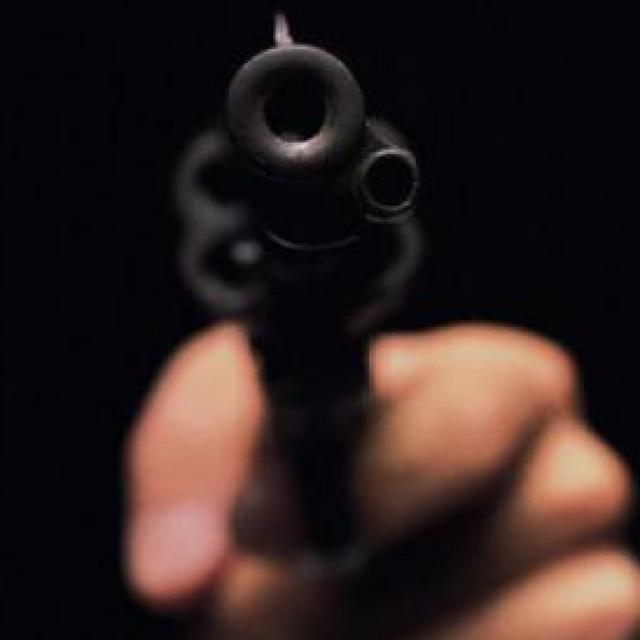pistol: (156, 9, 434, 560)
